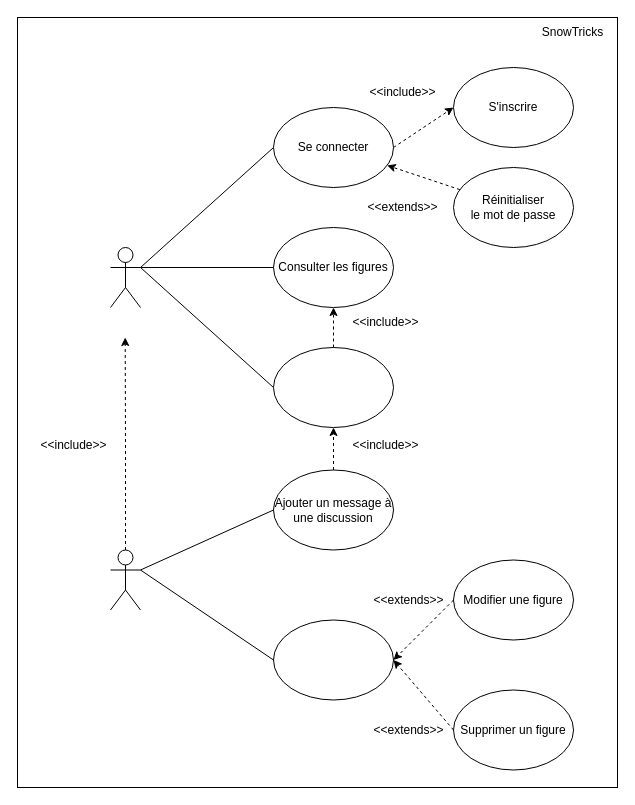
Some shapes in this 635 by 805 pixel diagram are drawn without their labels. Each missing label, with the centre of its shape:
"Ajouter une figure" goes at [333,659].
"Consulter les discussions" goes at [333,387].
"Utilisateur" goes at [125,579].
"Visiteur" goes at [125,277].
